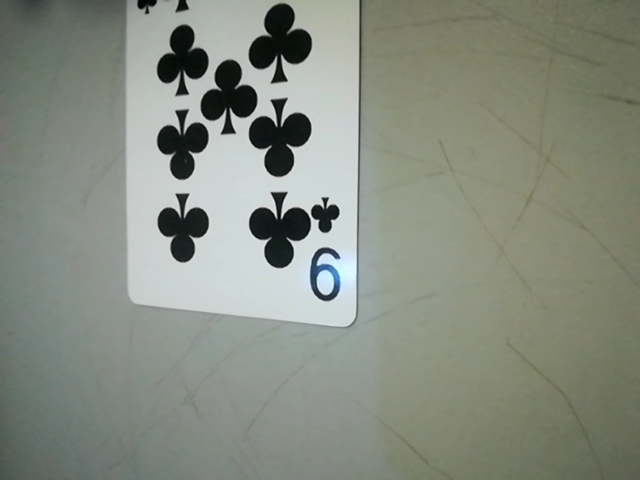mh 9: (301, 196, 355, 314)
